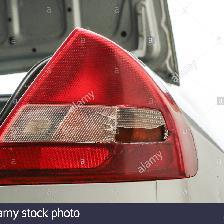broken_light: (1, 2, 214, 204)
